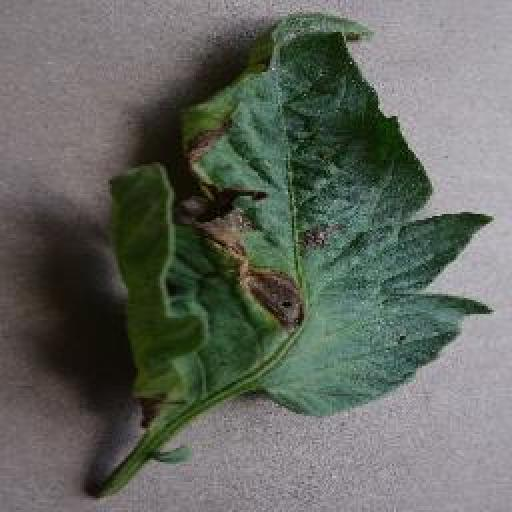disease_tomato: (113, 10, 488, 422)
